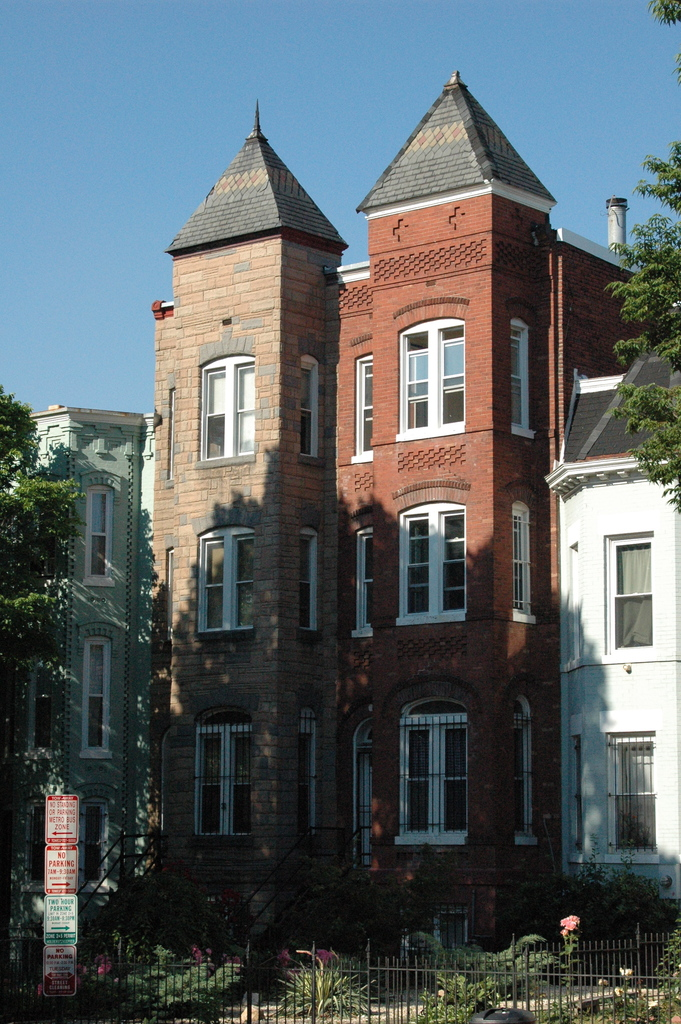Tree: (0, 383, 86, 1024), (601, 0, 681, 516)
